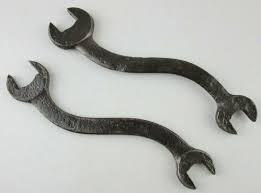wrench: (4, 58, 216, 190), (47, 5, 258, 134)
